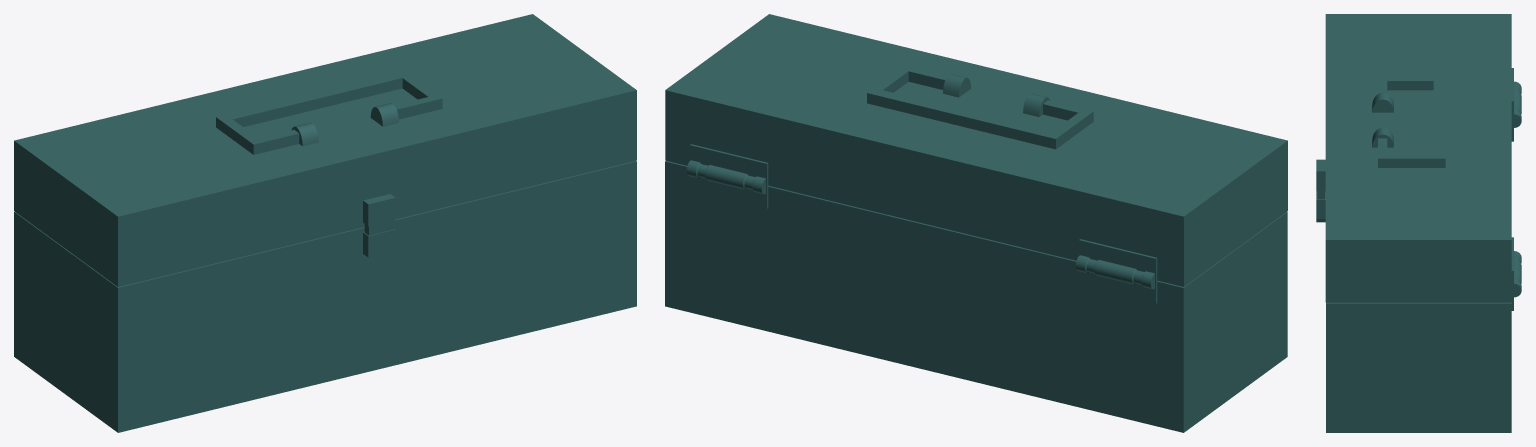
Rendered from toolbox low.fbx.
3 views of the same model, side by side, from view 1: azimuth 30°, elevation 25°; view 2: azimuth 150°, elevation 25°; view 3: azimuth 270°, elevation 25° (orthographic). The views are drawn at different scales.
Parts seen in each view (by area): view 1: toolbox_02_low, toolbox_01_low, toolbox_09_low, toolbox_08_low, toolbox_07_low; view 2: toolbox_02_low, toolbox_01_low, toolbox_09_low, toolbox_05_low, toolbox_03_low, toolbox_04_low, toolbox_06_low; view 3: toolbox_01_low, toolbox_02_low, toolbox_09_low, toolbox_10_low, toolbox_08_low, toolbox_04_low, toolbox_06_low, toolbox_11_low, toolbox_07_low, toolbox_03_low, toolbox_05_low.
Part boxes in pixels (x1,y1,x2,y2): toolbox_02_low: (14,161,636,432); toolbox_01_low: (14,14,636,286); toolbox_09_low: (216,71,442,154); toolbox_08_low: (363,194,395,235); toolbox_07_low: (363,228,395,263); toolbox_02_low: (665,160,1287,432); toolbox_01_low: (665,14,1287,286); toolbox_09_low: (867,65,1093,149); toolbox_05_low: (1079,239,1157,303); toolbox_03_low: (690,144,768,208); toolbox_04_low: (686,160,765,194); toolbox_06_low: (1075,255,1154,289); toolbox_01_low: (1325,14,1511,302); toolbox_02_low: (1326,302,1511,432); toolbox_09_low: (1378,76,1445,167); toolbox_10_low: (1372,92,1393,112); toolbox_08_low: (1316,159,1325,199); toolbox_04_low: (1514,251,1521,297); toolbox_06_low: (1514,81,1521,127); toolbox_11_low: (1372,127,1393,147); toolbox_07_low: (1316,191,1325,222); toolbox_03_low: (1511,237,1513,310); toolbox_05_low: (1511,68,1513,141).
Bounding box in the file's own units: 50.91 × 21.66 × 19.56.
